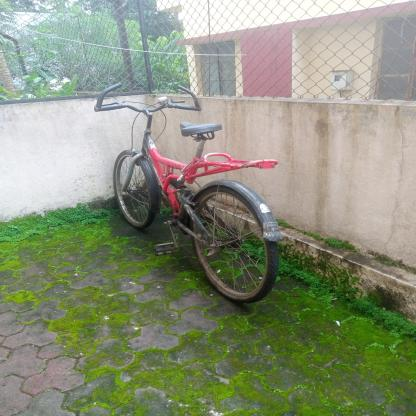bicycle: (69, 72, 323, 316)
